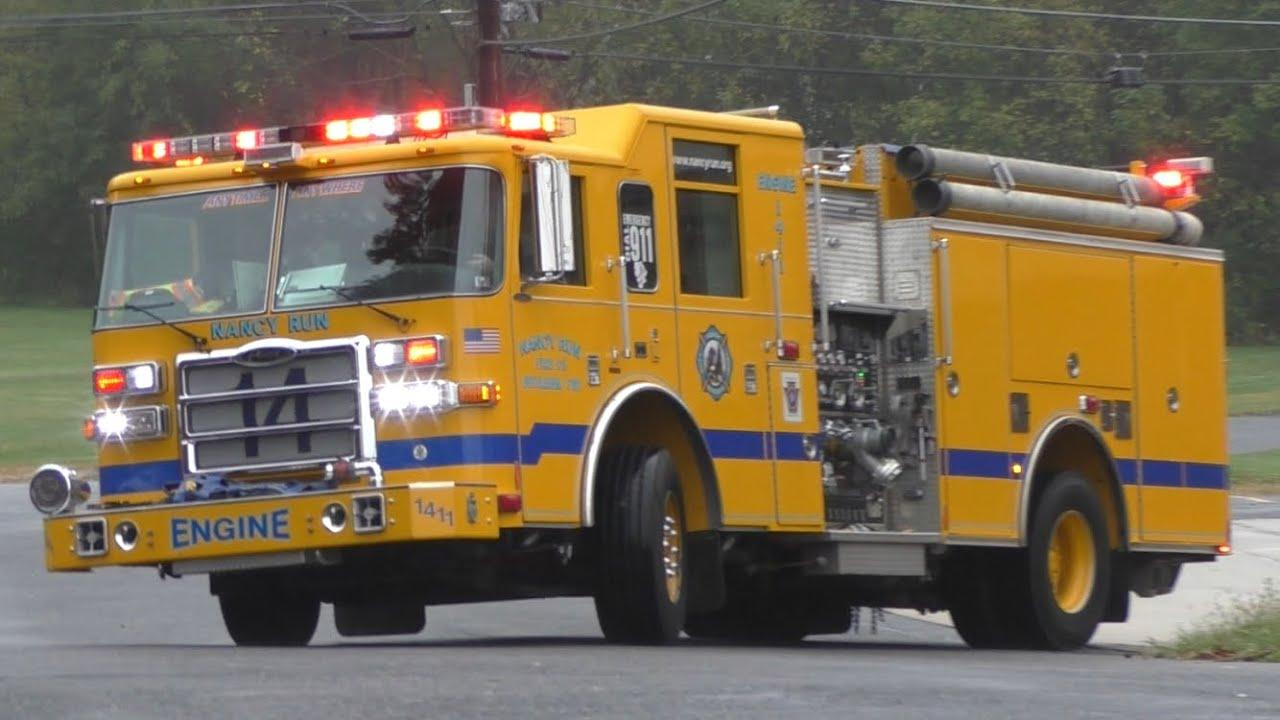Fire-engine: (29, 99, 1233, 651)
